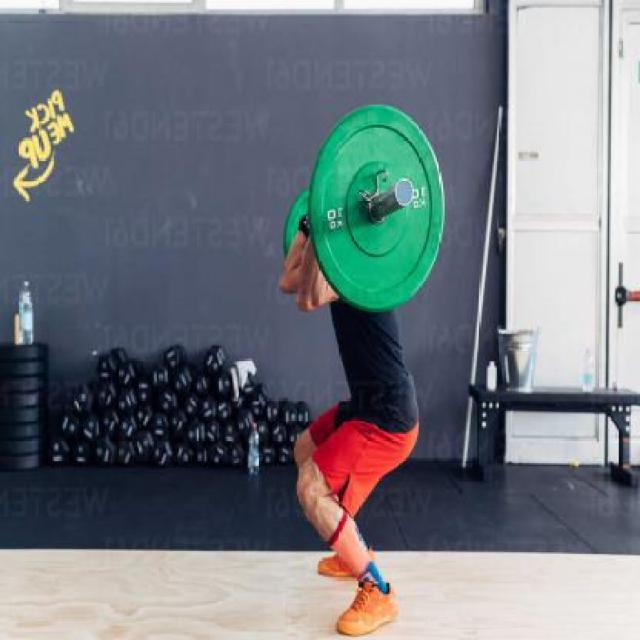Barbell: (390, 169, 416, 214)
